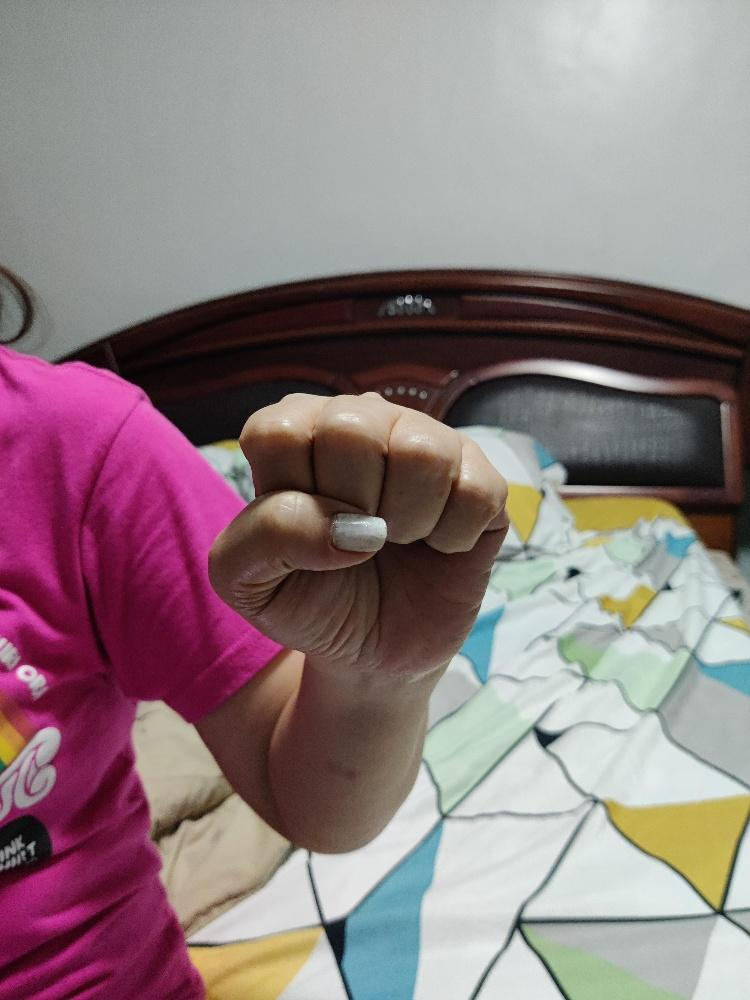s: (205, 390, 510, 679)
